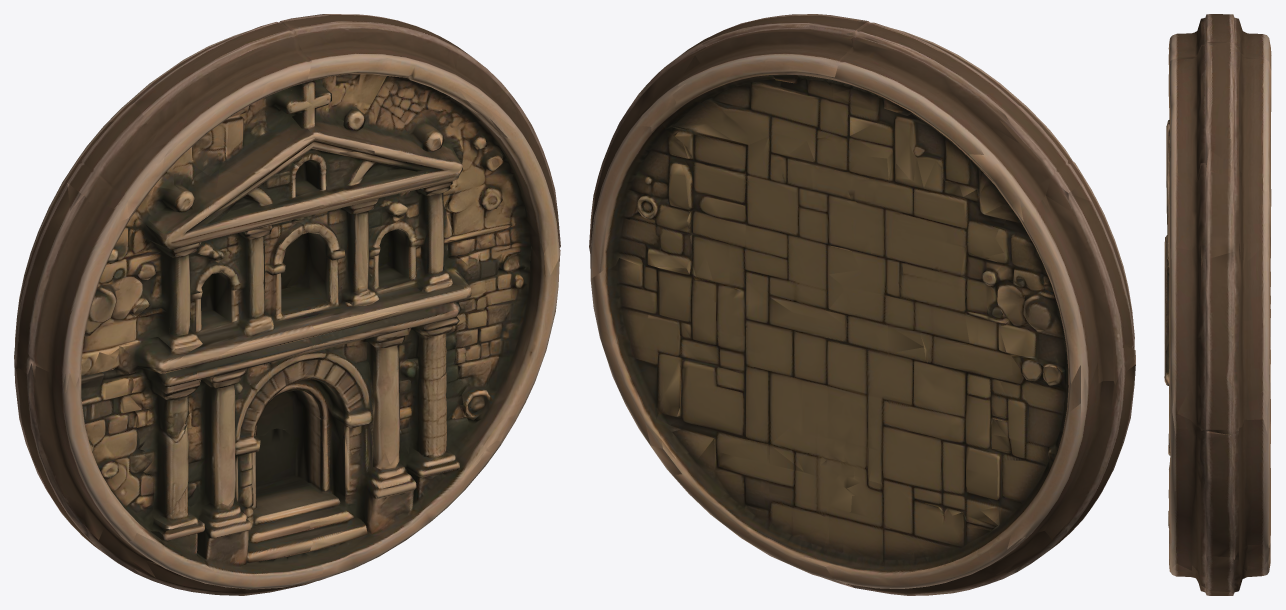
File: Seal-fragments.glb
3 renders of one model, left to right at view 1: azimuth 30°, elevation 25°; view 2: azimuth 150°, elevation 25°; view 3: azimuth 270°, elevation 25°, orthographic. The views are drawn at different scales.
Visible parts, largest first — view 1: Seal_Fragment_10, Seal_Fragment_11, Seal_Fragment_07, Seal_Fragment_06, Seal_Fragment_14, Seal_Fragment_15, Seal_Fragment_09, Seal_Fragment_03, Seal_Fragment_05, Seal_Fragment_08, Seal_Fragment_02, Seal_Fragment_12 (+3 smaller); view 2: Seal_Fragment_06, Seal_Fragment_07, Seal_Fragment_10, Seal_Fragment_11, Seal_Fragment_09, Seal_Fragment_14, Seal_Fragment_15, Seal_Fragment_05, Seal_Fragment_03, Seal_Fragment_02, Seal_Fragment_08, Seal_Fragment_12 (+3 smaller); view 3: Seal_Fragment_12, Seal_Fragment_08, Seal_Fragment_15, Seal_Fragment_16, Seal_Fragment_14, Seal_Fragment_04, Seal_Fragment_03, Seal_Fragment_11, Seal_Fragment_10, Seal_Fragment_07.
Part boxes in pixels (x1,y1,x2,y2): Seal_Fragment_10: (130, 157, 366, 355); Seal_Fragment_11: (275, 125, 462, 340); Seal_Fragment_07: (260, 264, 483, 469); Seal_Fragment_06: (120, 335, 315, 529); Seal_Fragment_14: (110, 21, 326, 192); Seal_Fragment_15: (281, 14, 486, 157); Seal_Fragment_09: (14, 175, 162, 392); Seal_Fragment_03: (256, 422, 483, 585); Seal_Fragment_05: (14, 346, 171, 545); Seal_Fragment_08: (445, 246, 560, 447); Seal_Fragment_02: (133, 452, 342, 595); Seal_Fragment_12: (445, 96, 560, 276); Seal_Fragment_06: (827, 325, 1018, 527); Seal_Fragment_07: (662, 275, 851, 471); Seal_Fragment_10: (825, 152, 1006, 351); Seal_Fragment_11: (675, 133, 859, 324); Seal_Fragment_09: (979, 175, 1135, 402); Seal_Fragment_14: (826, 21, 1040, 201); Seal_Fragment_15: (672, 14, 867, 161); Seal_Fragment_05: (980, 338, 1135, 549); Seal_Fragment_03: (663, 438, 859, 587); Seal_Fragment_02: (826, 476, 1016, 595); Seal_Fragment_08: (590, 252, 695, 451); Seal_Fragment_12: (589, 93, 692, 277); Seal_Fragment_12: (1169, 223, 1270, 438); Seal_Fragment_08: (1164, 372, 1270, 559); Seal_Fragment_15: (1166, 42, 1271, 204); Seal_Fragment_16: (1169, 149, 1270, 270); Seal_Fragment_14: (1166, 14, 1271, 126); Seal_Fragment_04: (1169, 540, 1270, 592); Seal_Fragment_03: (1168, 511, 1270, 595); Seal_Fragment_11: (1164, 175, 1169, 350); Seal_Fragment_10: (1164, 119, 1169, 312); Seal_Fragment_07: (1164, 327, 1169, 377).
Size of the model in its own units: 0.9801 by 0.9772 by 0.1801.
1 material, 1 textured.
